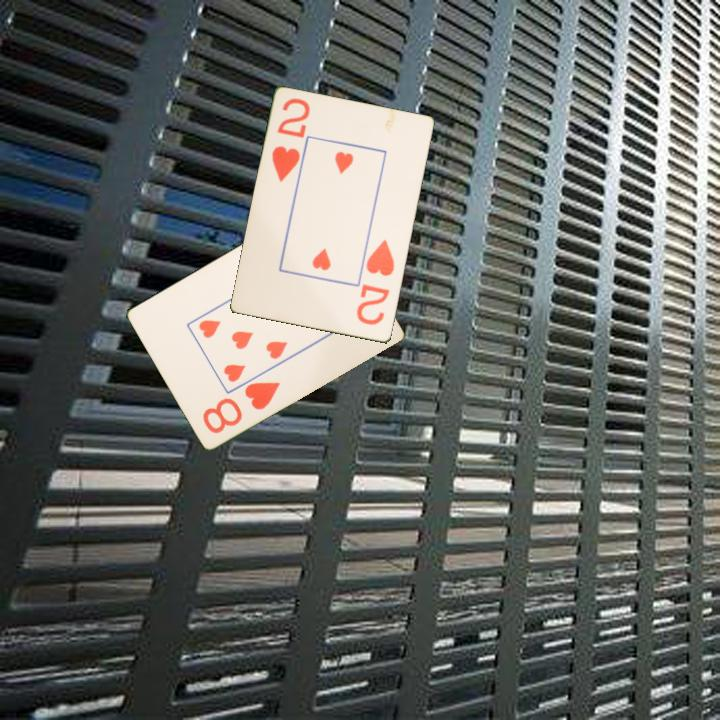2h: (353, 236, 398, 328), (268, 95, 313, 185)
8h: (199, 378, 283, 436)
